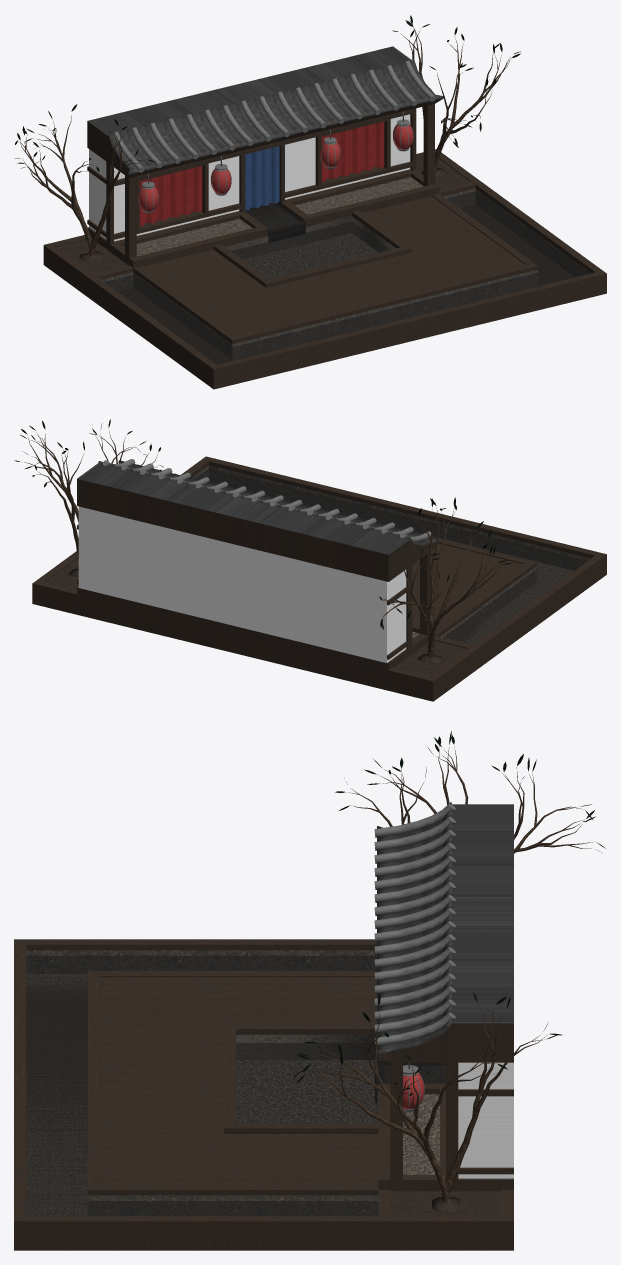
File: bath.obj
The picture shows the model from 3 angles, top to bottom: view 1: azimuth 30°, elevation 25°; view 2: azimuth 150°, elevation 25°; view 3: azimuth 270°, elevation 25°; orthographic projection. The views are drawn at different scales.
Parts seen in each view (by area): view 1: Plane, Plane.052_Plane.058, Plane.053_Plane.059, Plane.045_Plane.051, Plane.035_Plane.036, Plane.064_Plane.070, NurbsPath, Plane.025, Plane.009, Plane.049_Plane.055, Plane.008, Plane.007 (+30 smaller); view 2: Plane.025, Plane.052_Plane.058, Plane.033_Plane.034, Plane.053_Plane.059, Plane.045_Plane.051, Plane.064_Plane.070, Plane, Plane.049_Plane.055, Plane.015, tree.001, NurbsPath, Plane.046_Plane.052 (+12 smaller); view 3: Plane, Plane.053_Plane.059, Plane.052_Plane.058, Plane.045_Plane.051, Plane.064_Plane.070, NurbsPath, Plane.009, Plane.008, Plane.046_Plane.052, Plane.035_Plane.036, Plane.025, tree.002 (+20 smaller).
Boxes of the visible parts, bbox=[...] form: Plane: bbox=[142, 196, 525, 335]; Plane.052_Plane.058: bbox=[43, 204, 606, 389]; Plane.053_Plane.059: bbox=[104, 191, 587, 364]; Plane.045_Plane.051: bbox=[101, 188, 590, 359]; Plane.035_Plane.036: bbox=[118, 62, 430, 170]; Plane.064_Plane.070: bbox=[88, 46, 411, 135]; NurbsPath: bbox=[112, 60, 435, 172]; Plane.025: bbox=[89, 114, 410, 241]; Plane.009: bbox=[231, 221, 389, 279]; Plane.049_Plane.055: bbox=[209, 270, 606, 373]; Plane.008: bbox=[243, 233, 377, 278]; Plane.007: bbox=[225, 216, 395, 259]; Plane.025: bbox=[78, 506, 406, 662]; Plane.052_Plane.058: bbox=[32, 482, 606, 701]; Plane.033_Plane.034: bbox=[77, 479, 441, 581]; Plane.053_Plane.059: bbox=[195, 468, 587, 644]; Plane.045_Plane.051: bbox=[192, 465, 590, 640]; Plane.064_Plane.070: bbox=[77, 463, 409, 554]; Plane: bbox=[412, 543, 523, 628]; Plane.049_Plane.055: bbox=[202, 456, 606, 560]; Plane.015: bbox=[77, 591, 435, 674]; tree.001: bbox=[381, 507, 501, 657]; NurbsPath: bbox=[103, 459, 431, 542]; Plane.046_Plane.052: bbox=[271, 497, 573, 644]; Plane: bbox=[100, 977, 378, 1184]; Plane.053_Plane.059: bbox=[26, 955, 378, 1215]; Plane.052_Plane.058: bbox=[14, 977, 513, 1250]; Plane.045_Plane.051: bbox=[26, 950, 378, 1215]; Plane.064_Plane.070: bbox=[452, 804, 513, 1023]; NurbsPath: bbox=[374, 803, 455, 1046]; Plane.009: bbox=[236, 1043, 378, 1122]; Plane.008: bbox=[236, 1060, 377, 1122]; Plane.046_Plane.052: bbox=[26, 974, 87, 1215]; Plane.035_Plane.036: bbox=[377, 809, 452, 1037]; Plane.025: bbox=[458, 1062, 513, 1178]; tree.002: bbox=[302, 1006, 547, 1203].
Size of the model in its own units: 27.11 by 8.33 by 19.21.
13 materials, 11 textured.
